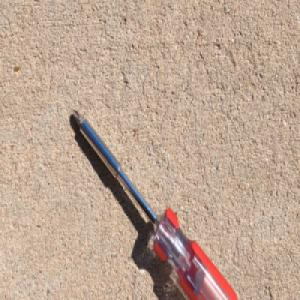Screwdriver: (71, 106, 240, 300)
